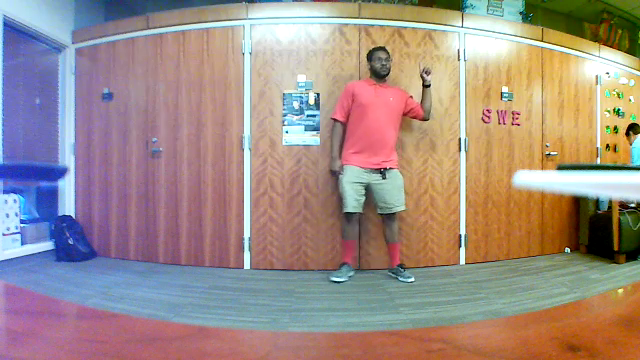up: (413, 57, 434, 88)
